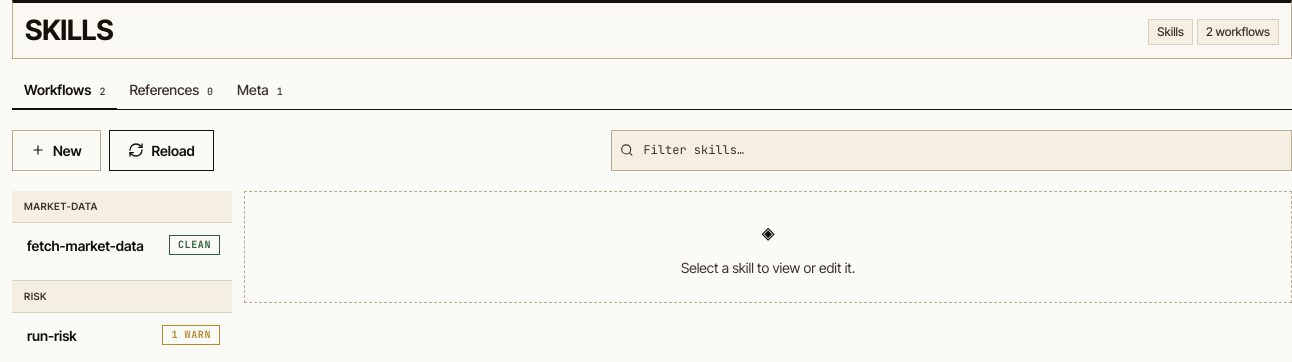
Test: Skills › filter treats spaces and hyphens as interchangeable
In the search field with placeholder "Filter skills…": (962, 150) [641,140,1283,160], type "market data"
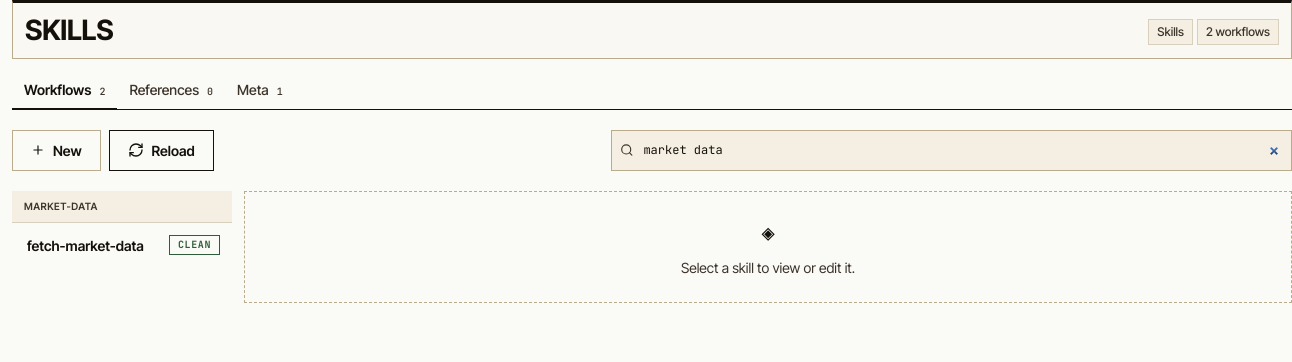
Expected: the text "fetch-market-data" is shown, [27,235,144,256]
Result: the button "run-risk" is gone
